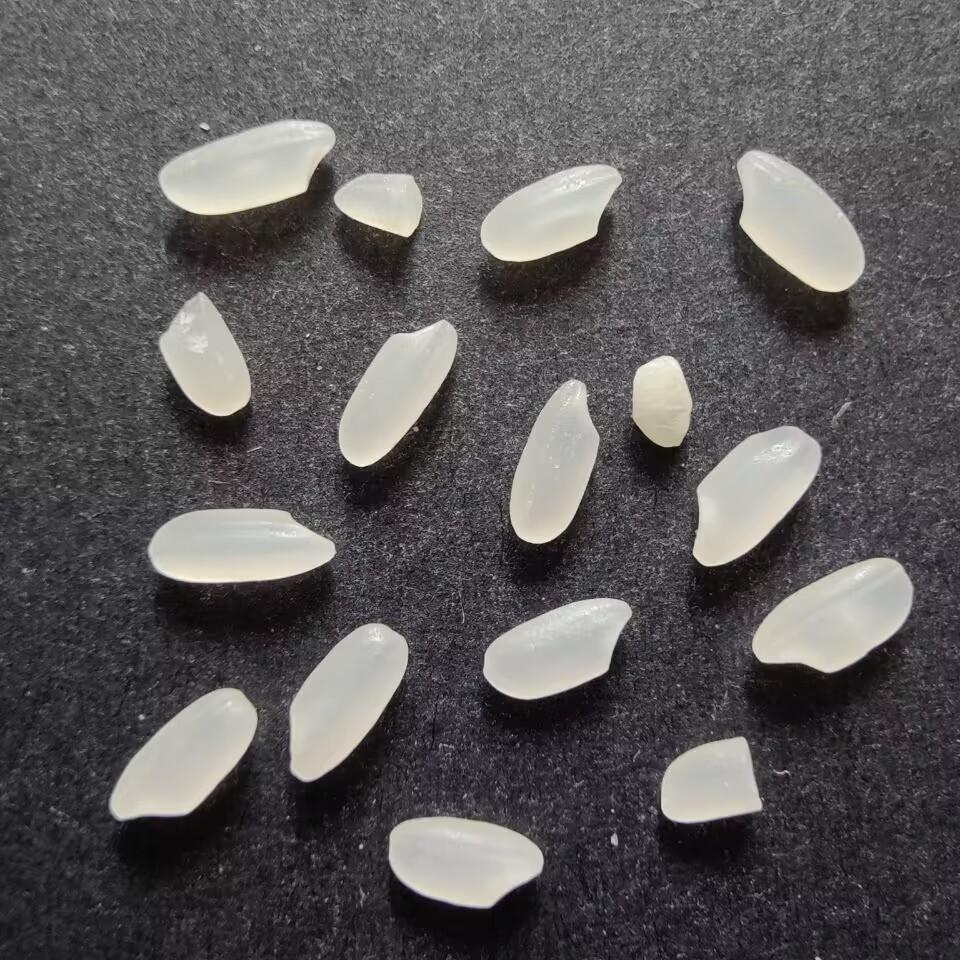broken: (158, 291, 252, 417), (656, 730, 768, 831), (625, 351, 694, 450), (333, 169, 425, 240)
rice: (107, 683, 262, 825), (283, 619, 414, 786), (687, 422, 828, 571), (732, 145, 869, 296), (748, 555, 915, 677), (333, 315, 459, 469), (151, 117, 338, 219), (477, 594, 635, 704), (385, 812, 550, 915), (506, 374, 603, 548), (146, 505, 341, 589), (474, 162, 624, 263)
